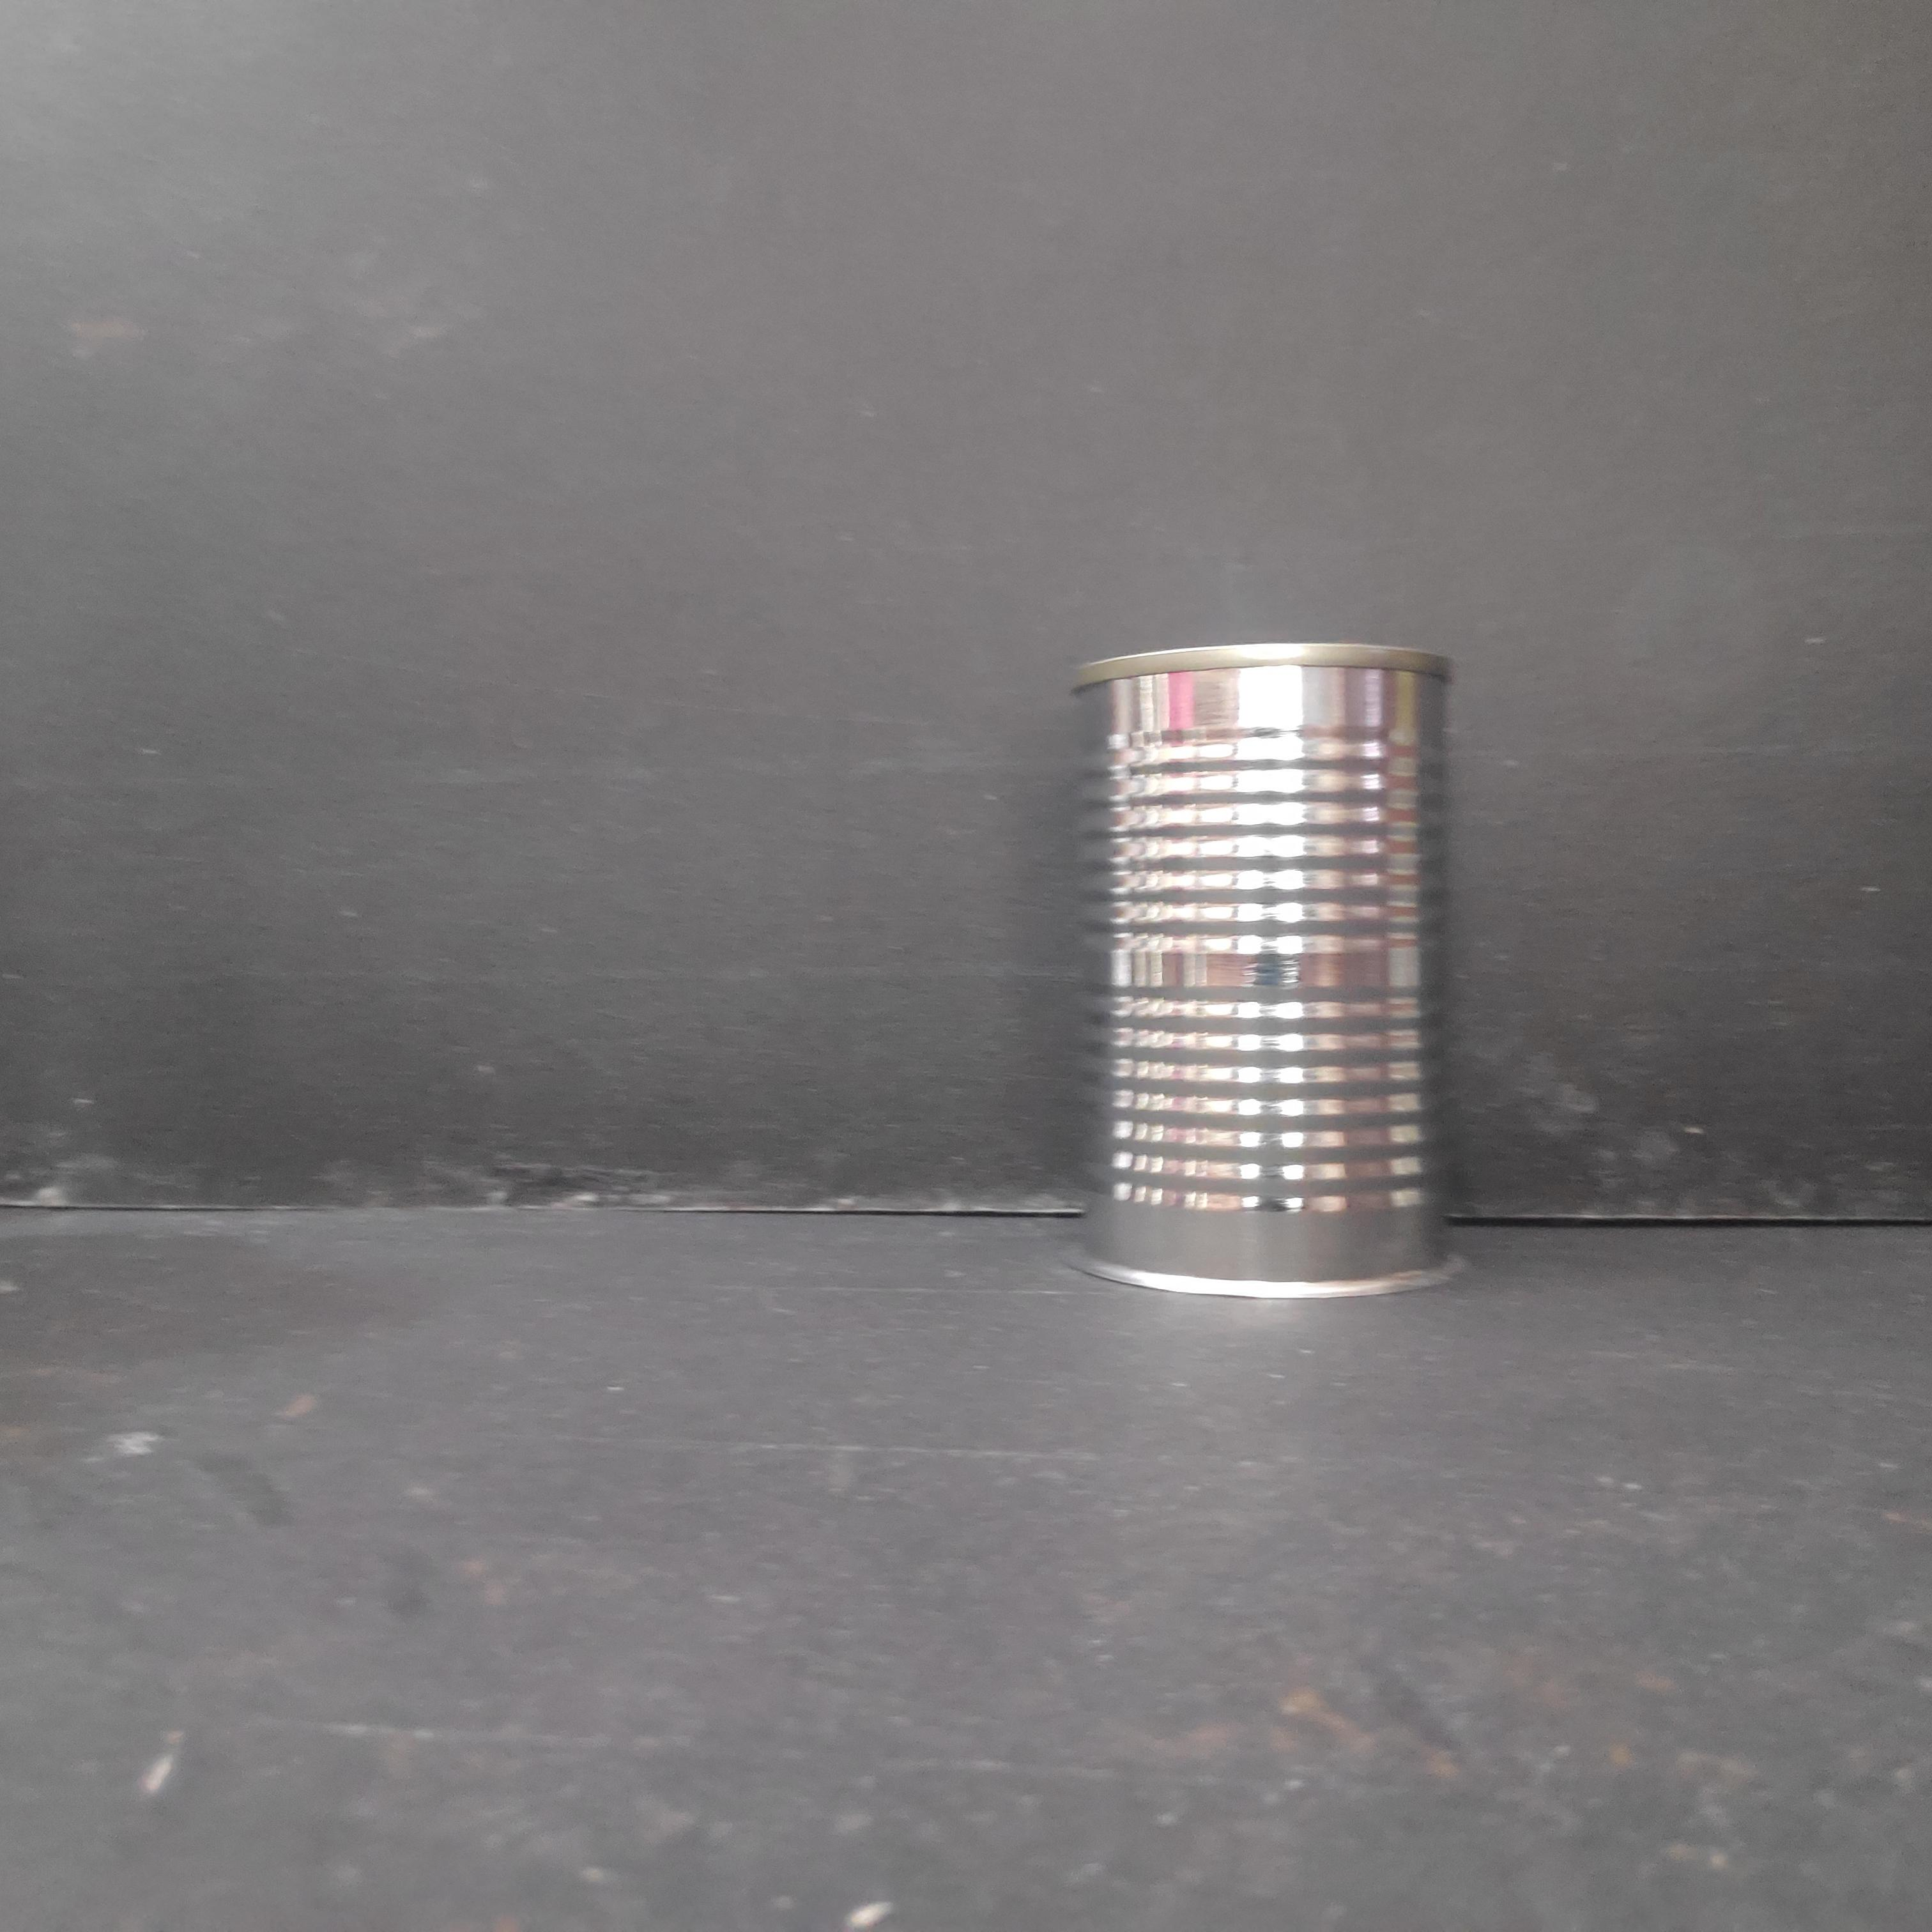No defect: (1069, 623, 1474, 1309)
